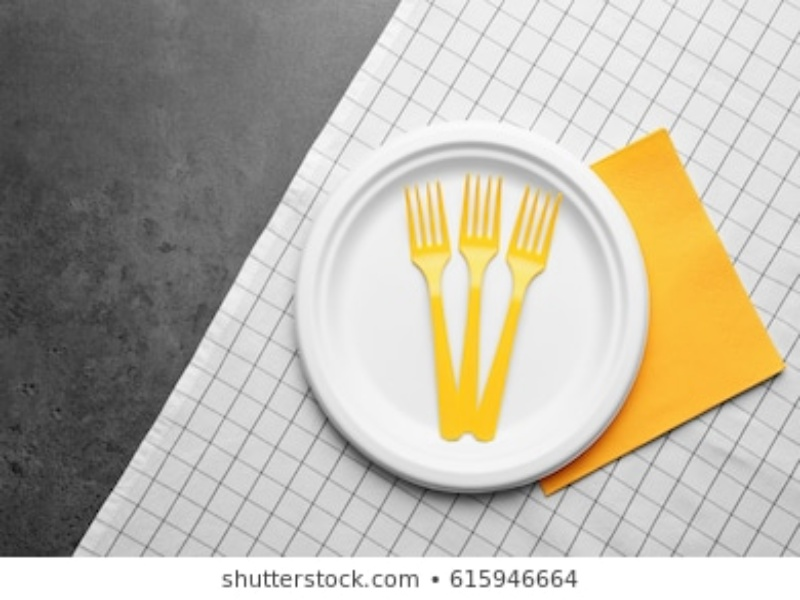plastic-plate: (289, 117, 653, 500)
plastic-silverware: (479, 184, 573, 439), (399, 177, 469, 444), (456, 172, 507, 442)
